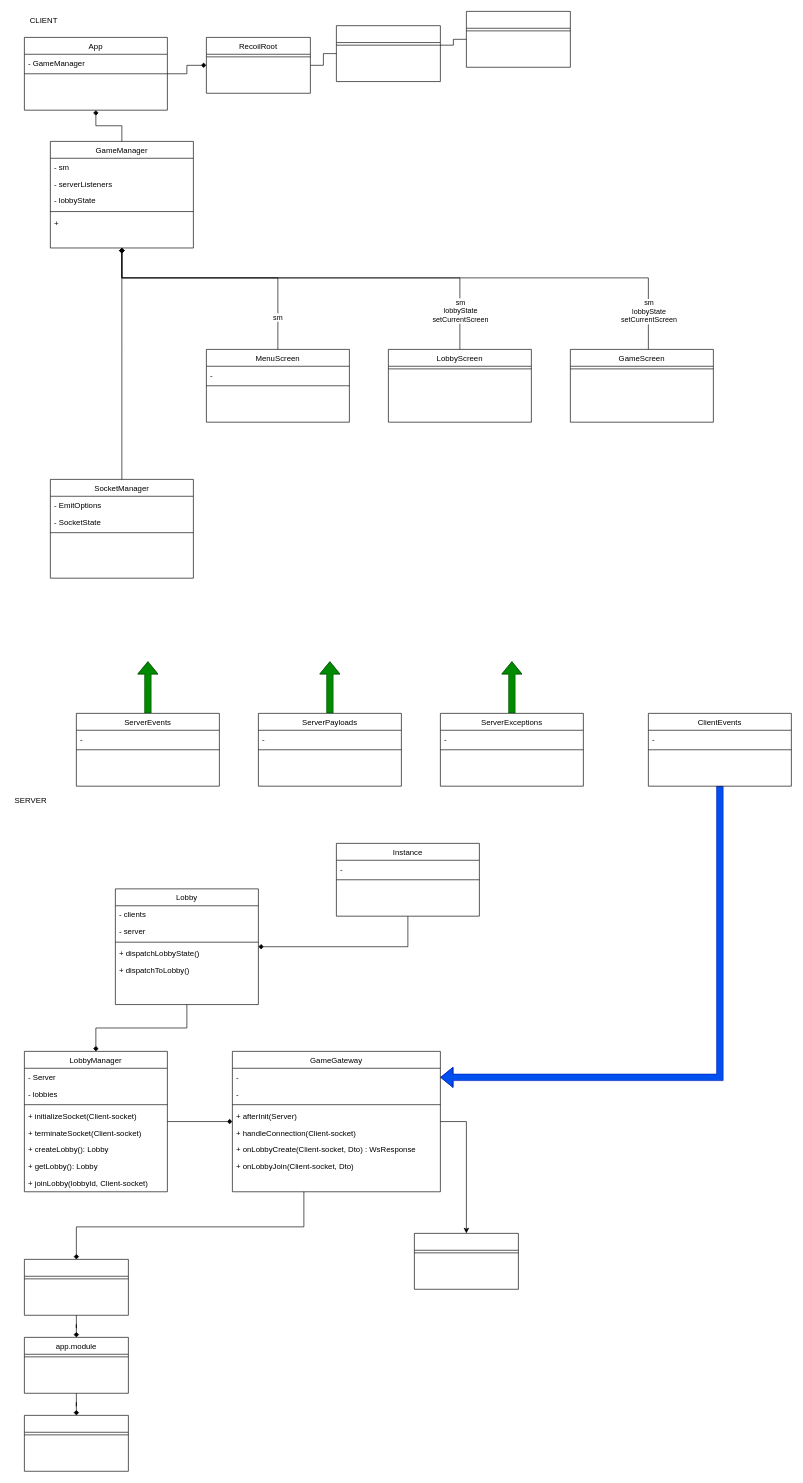
Image size: 803x1483. Some labels were removed from this diagram. Each missing label, with the centre of its shape:
game.module: point (76, 1287)
main.jsx: point (518, 39)
main.ts: point (76, 1443)
React-router-dom: point (388, 53)
WsValidationPipeline: point (466, 1261)
